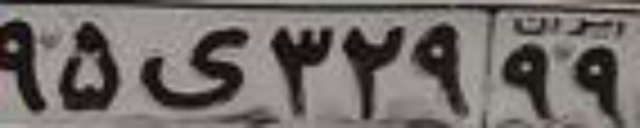2: (341, 26, 405, 119)
3: (267, 26, 330, 117)
5: (52, 19, 120, 110)
9: (412, 25, 471, 119), (500, 42, 556, 122), (1, 17, 47, 114), (570, 43, 624, 123)
ye: (141, 27, 248, 107)
